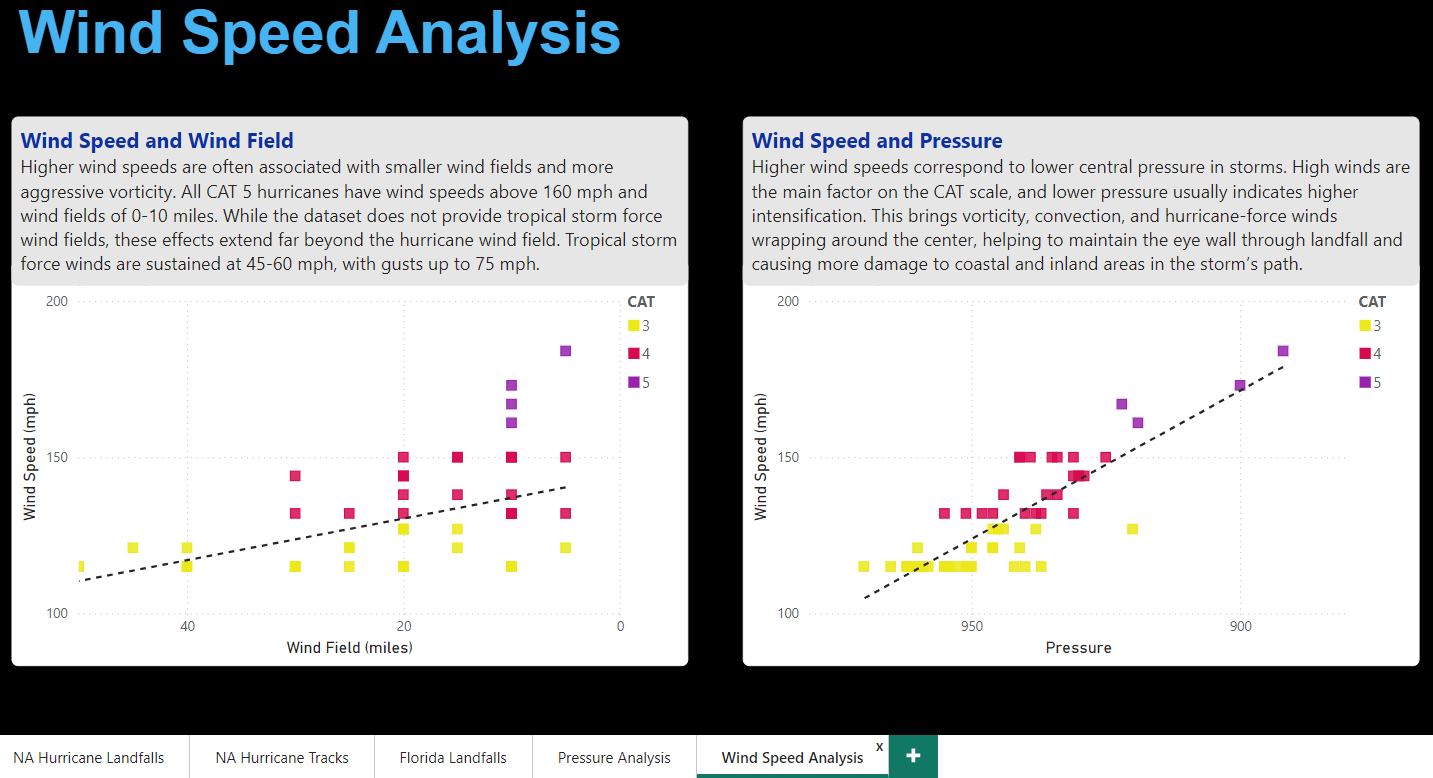

Layout of this report page (visuals, bound fields, positions):
{"tool":"powerbi","page":{"name":"Wind Speed Analysis","canvas":[1280,720],"ordinal":3},"visuals":[{"type":"textbox","box":[16.3,47.6,1251,70.9],"z":0},{"type":"scatterChart","title":"Wind Speed (mph) and Pressure  Scatter Plot","fields":{"Category":["_storms.StormName"],"Series":["hurricane data.SSHWS"],"X":["_measures.Pressure"],"Y":["_measures.Wind Speed (mph)"]},"box":[665.1,285.7,601.6,360.7],"z":1000},{"type":"scatterChart","title":"Wind Speed (mph) and Wind Field (miles) Scatter Plot","fields":{"Category":["_storms.StormName"],"Series":["hurricane data.SSHWS"],"X":["_measures.Wind Field (miles)"],"Y":["_measures.Wind Speed (mph)"]},"box":[15.9,285.7,601.6,360.7],"z":2000}]}

Visuals, with their boxes on the page's 1280x720 design canvas (x1, y1, x2, y2). These are canvas units, not pixel positions in the 1433x778 screenshot, which may show the page scaled, cropped or inside an application window:
textbox: (16,48,1267,118)
"Wind Speed (mph) and Pressure  Scatter Plot" scatterChart: (665,286,1267,646)
"Wind Speed (mph) and Wind Field (miles) Scatter Plot" scatterChart: (16,286,618,646)
